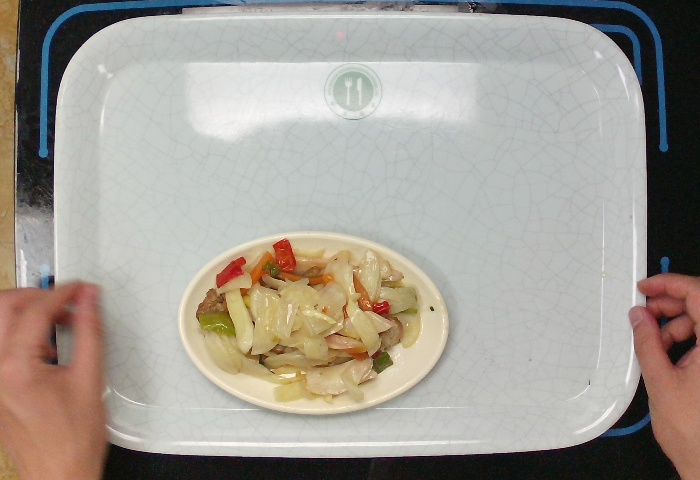JYsf-Tuo_Yuan_Wan: (177, 229, 452, 417)
